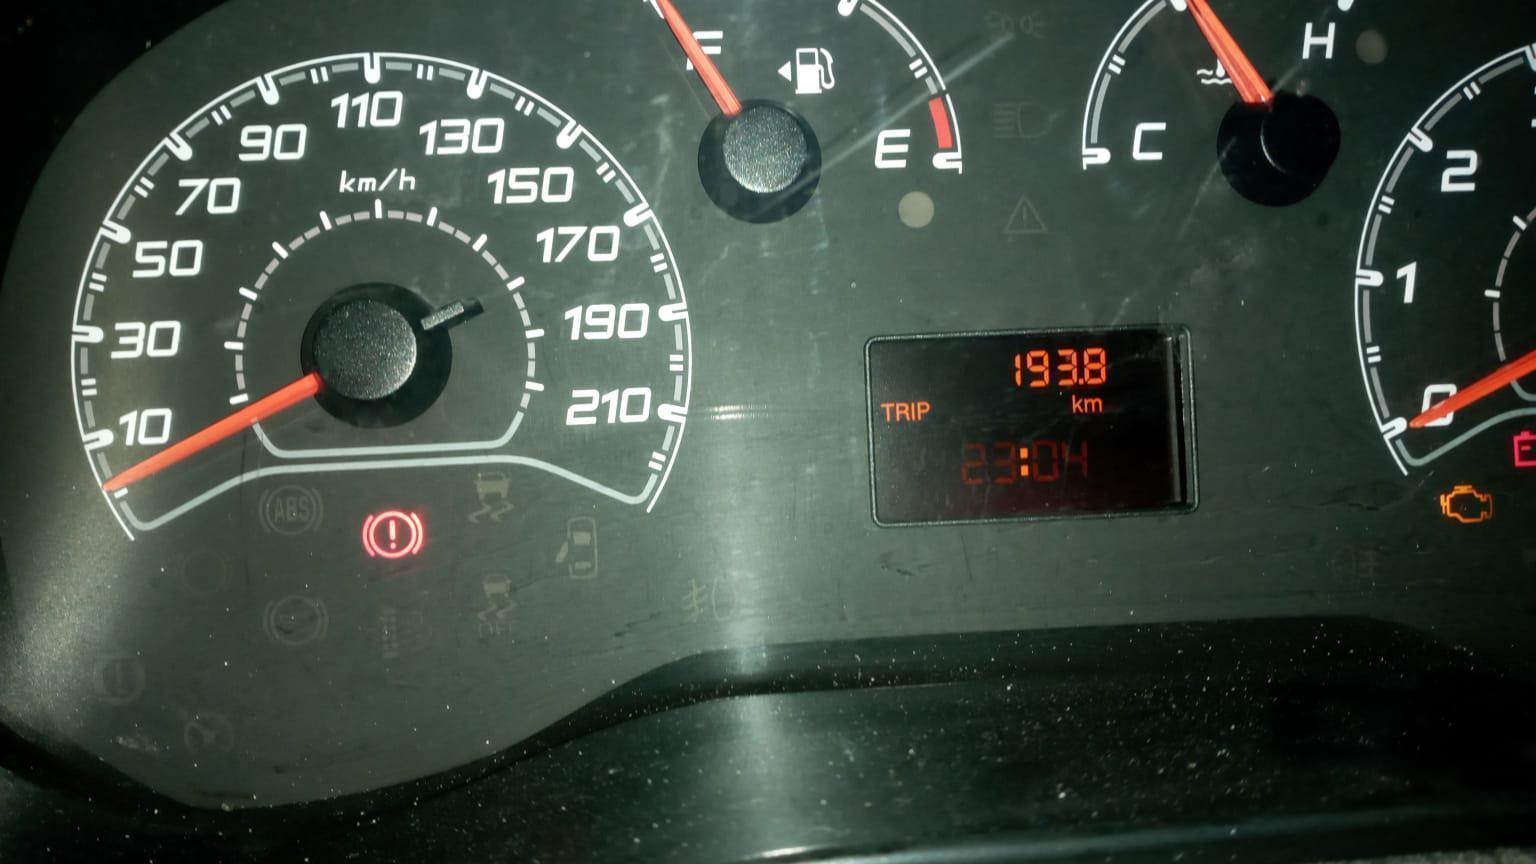,: (1077, 377, 1084, 385)
0: (1031, 439, 1060, 483)
1: (1013, 352, 1022, 387)
2: (960, 442, 987, 486)
3: (991, 440, 1017, 485), (1055, 348, 1078, 386)
4: (1061, 440, 1088, 478)
8: (1083, 346, 1107, 385)
9: (1025, 349, 1050, 388)
X: (1018, 446, 1030, 477), (1084, 396, 1103, 412), (895, 402, 910, 422), (915, 401, 930, 421), (879, 402, 894, 422), (1071, 393, 1084, 412), (909, 401, 915, 421)
odometer: (862, 320, 1203, 530)
